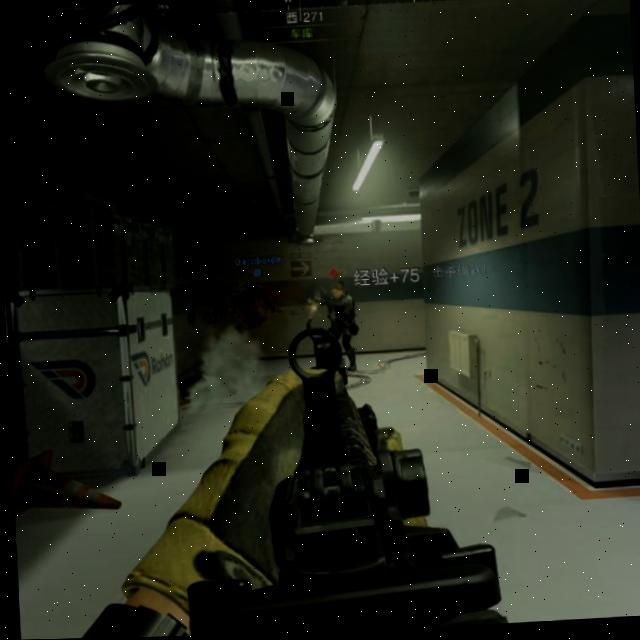MW2_body: (319, 269, 357, 372)
